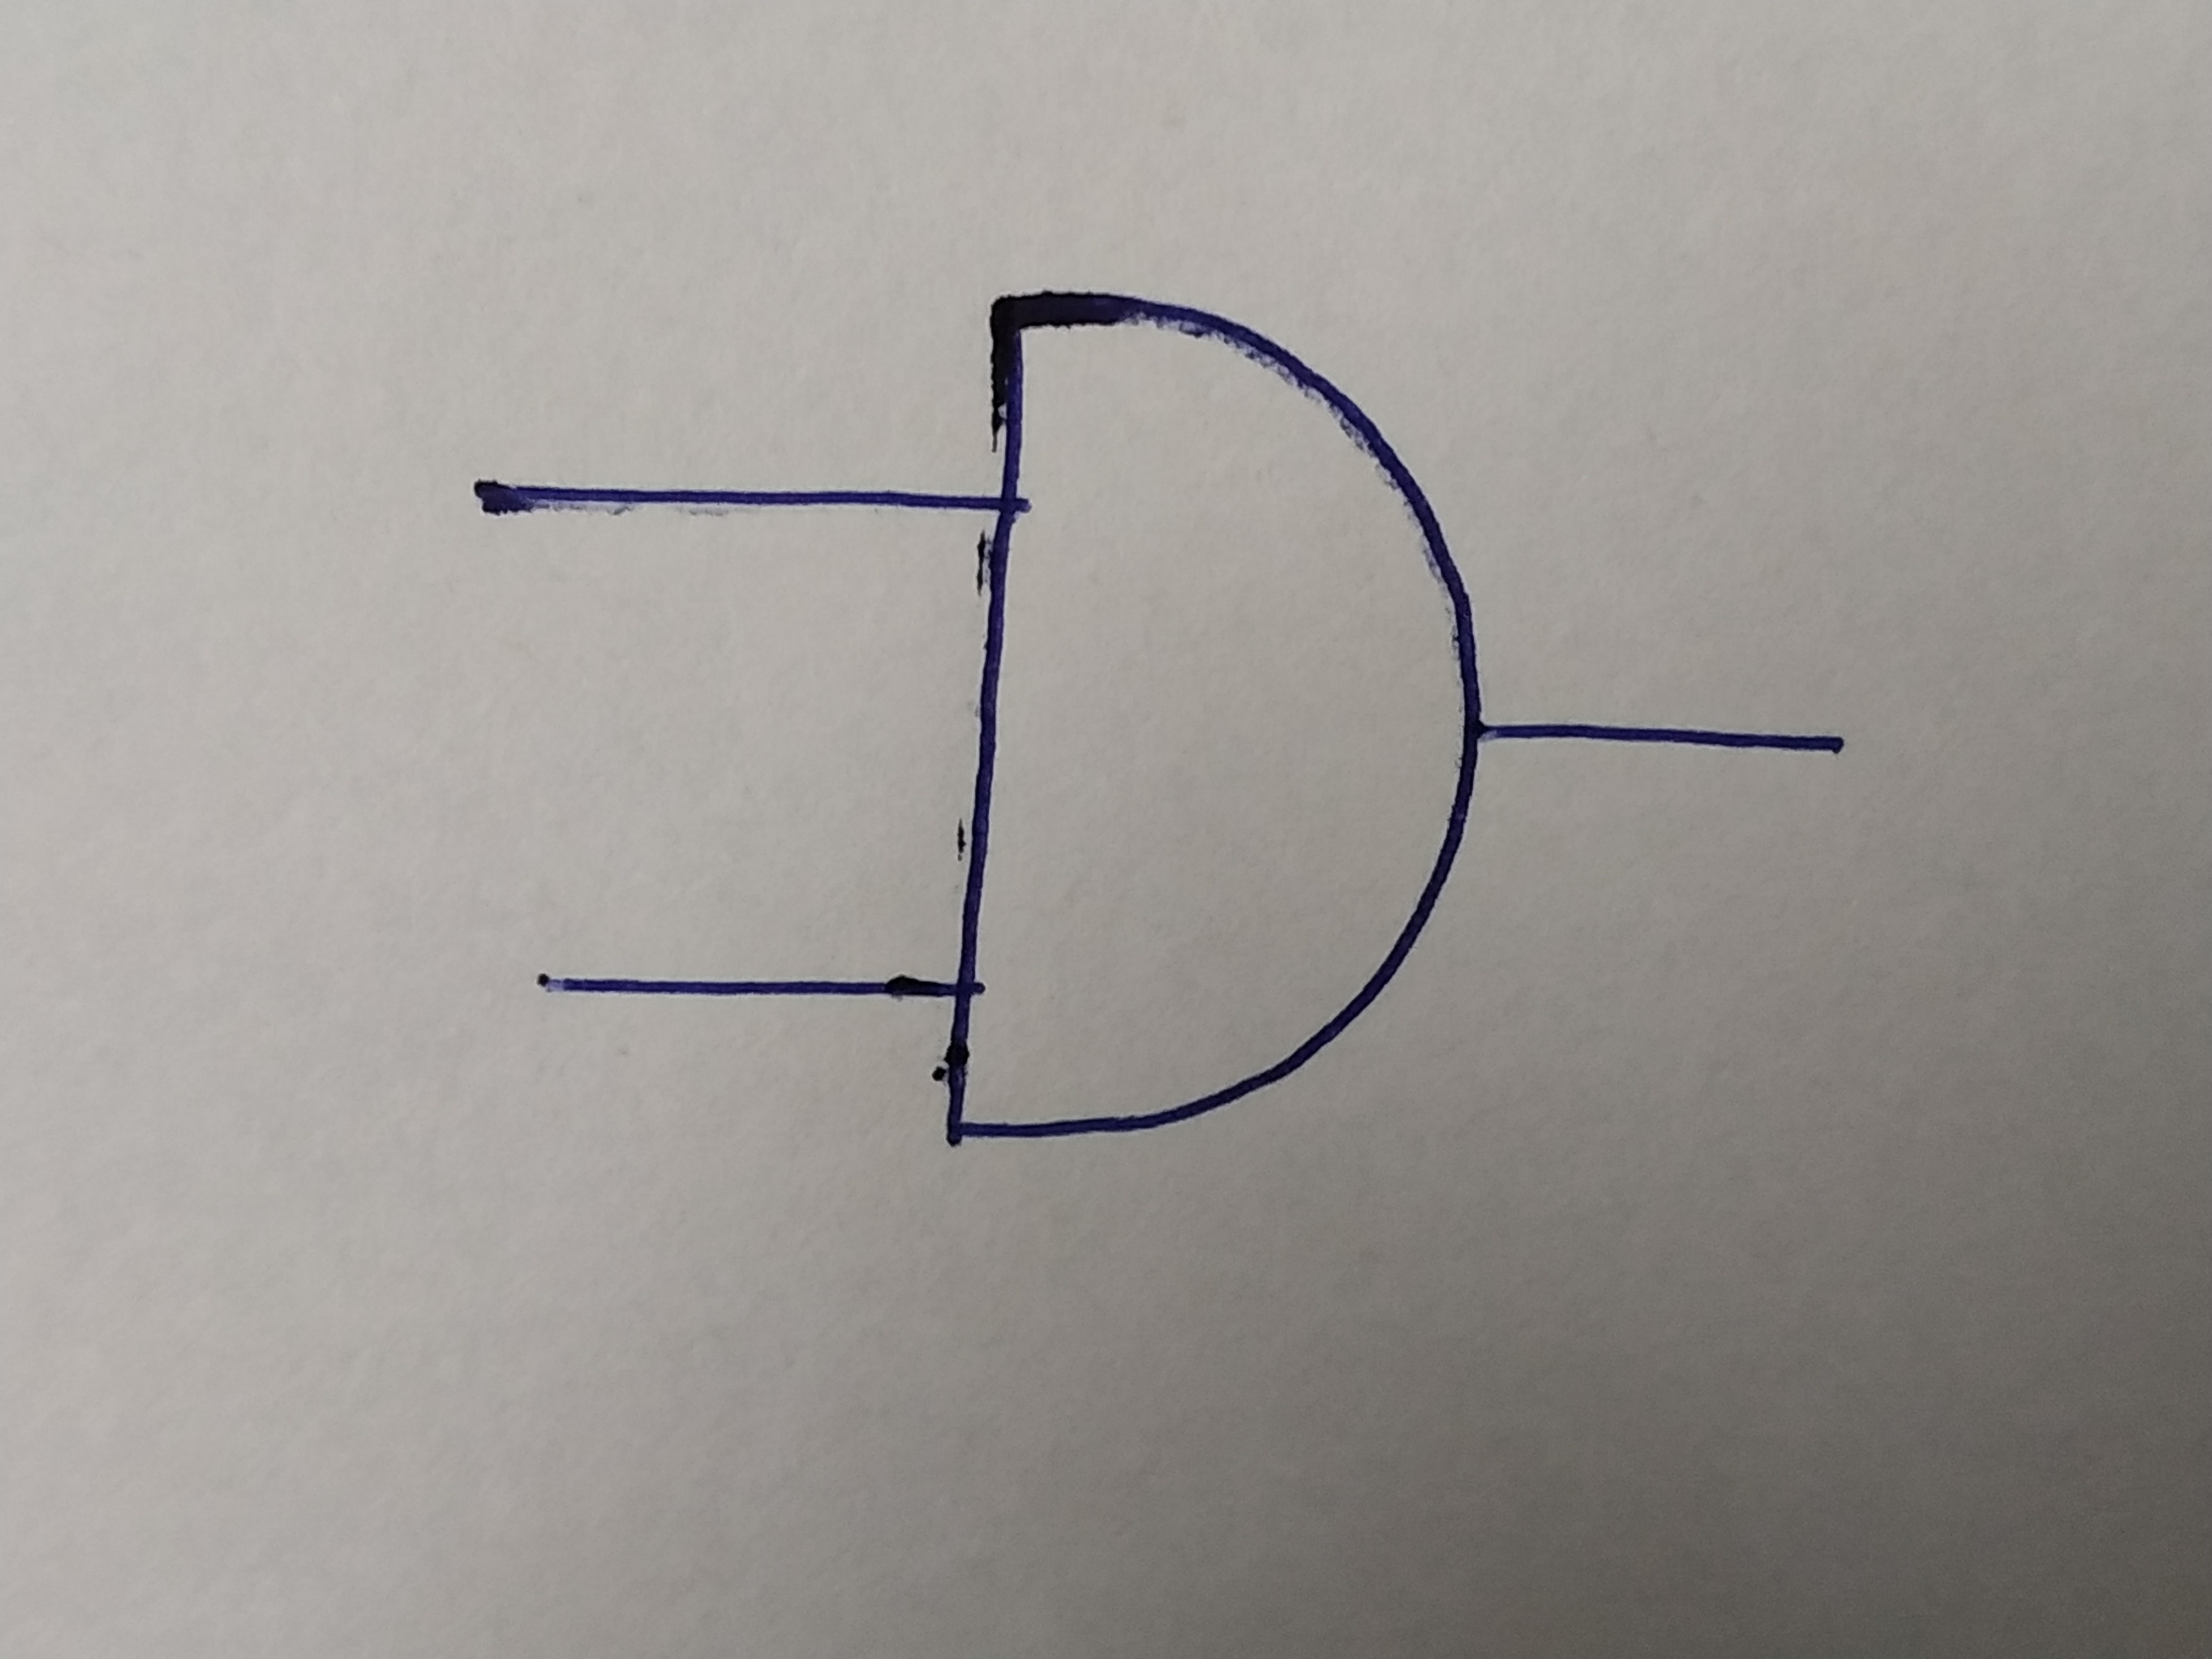and: (953, 295, 1480, 1133)
